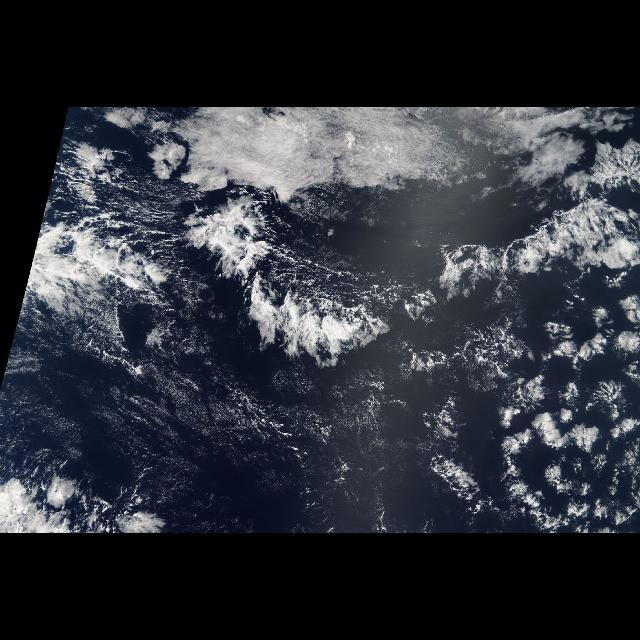Flower: (386, 283, 640, 533)
Sugar: (3, 364, 399, 524)
